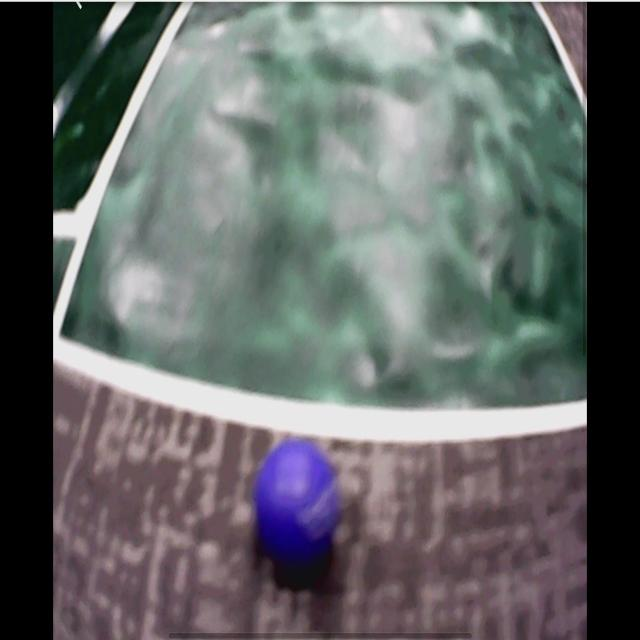ball: (257, 439, 340, 559)
